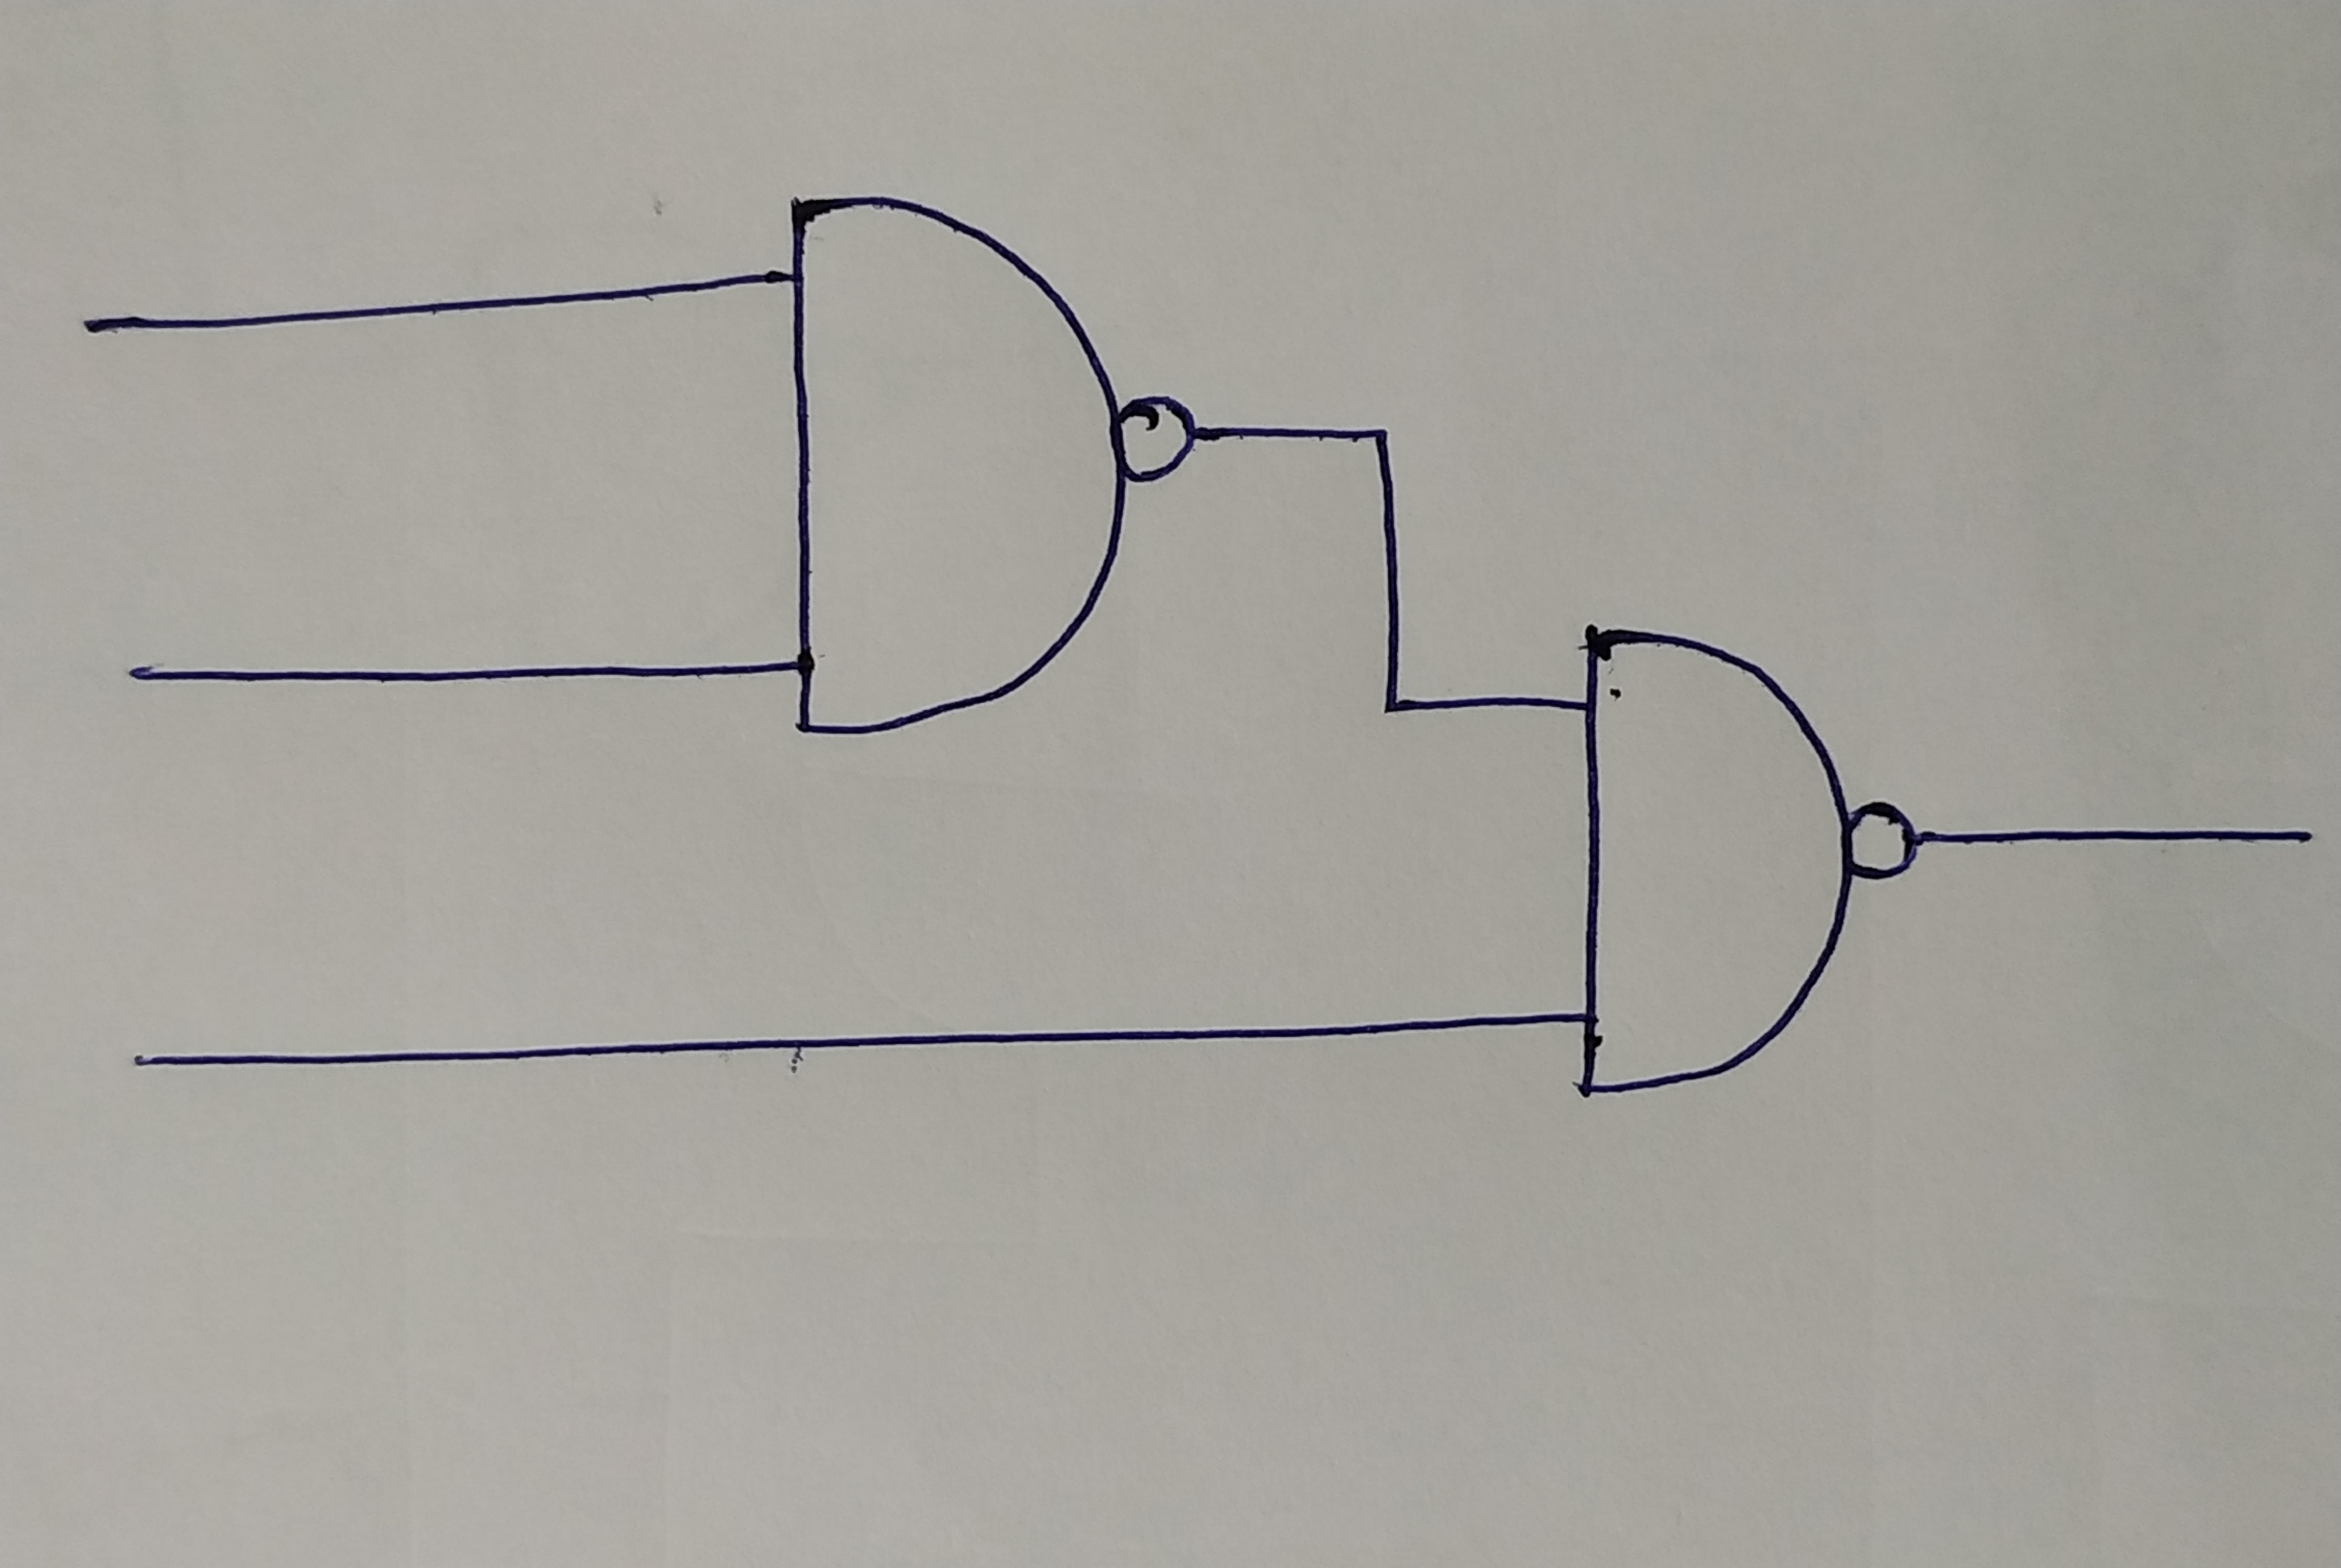and: (789, 185, 1125, 733), (1578, 618, 1853, 1099)
not: (1116, 387, 1198, 486), (1851, 805, 1918, 878)
